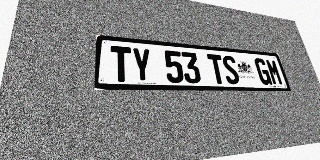3: (181, 52, 201, 84)
5: (164, 50, 185, 83)
G: (253, 58, 273, 85)
M: (265, 59, 284, 85)
S: (221, 55, 241, 84)
T: (111, 46, 132, 82), (207, 54, 227, 84)
Y: (131, 47, 153, 83)
